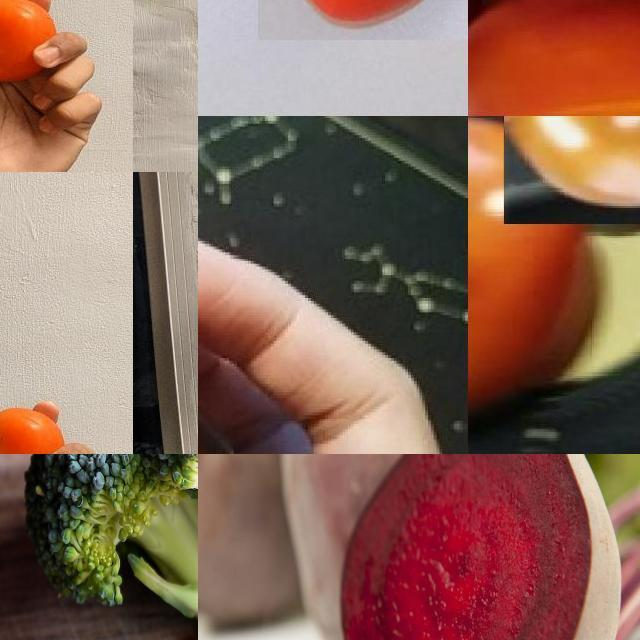beet: (345, 455, 625, 640), (281, 455, 440, 640), (199, 455, 305, 620)
tomato: (469, 117, 599, 443), (504, 117, 640, 225), (259, 1, 469, 41)
